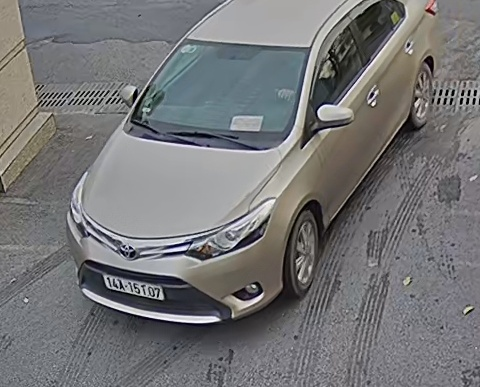vehicle plate: (102, 271, 166, 302)
